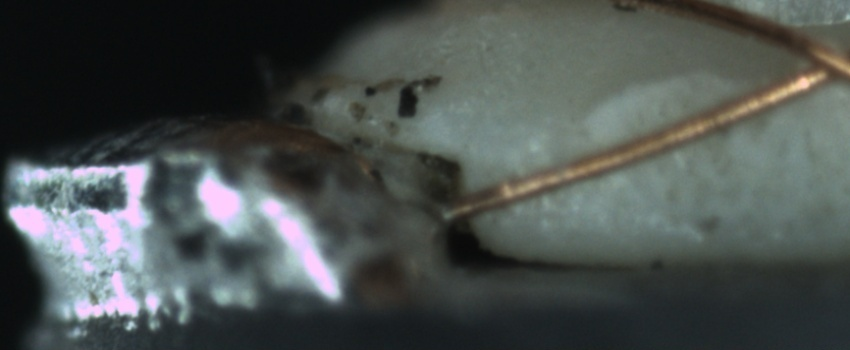CL: (766, 22, 845, 97)
